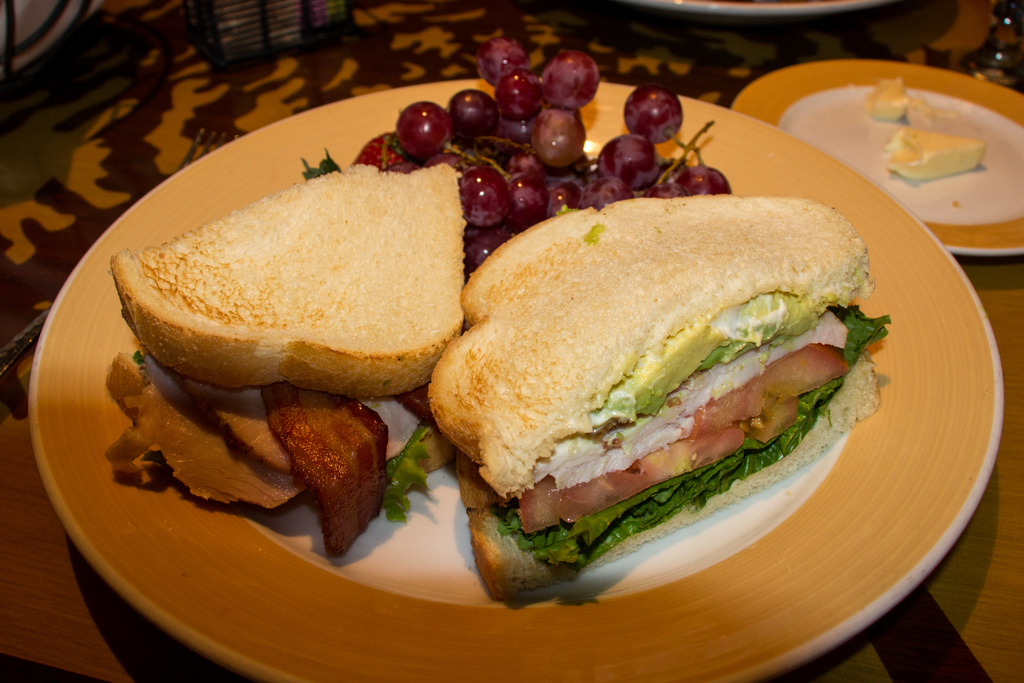Hamburger: (426, 195, 888, 596), (100, 161, 471, 556)
